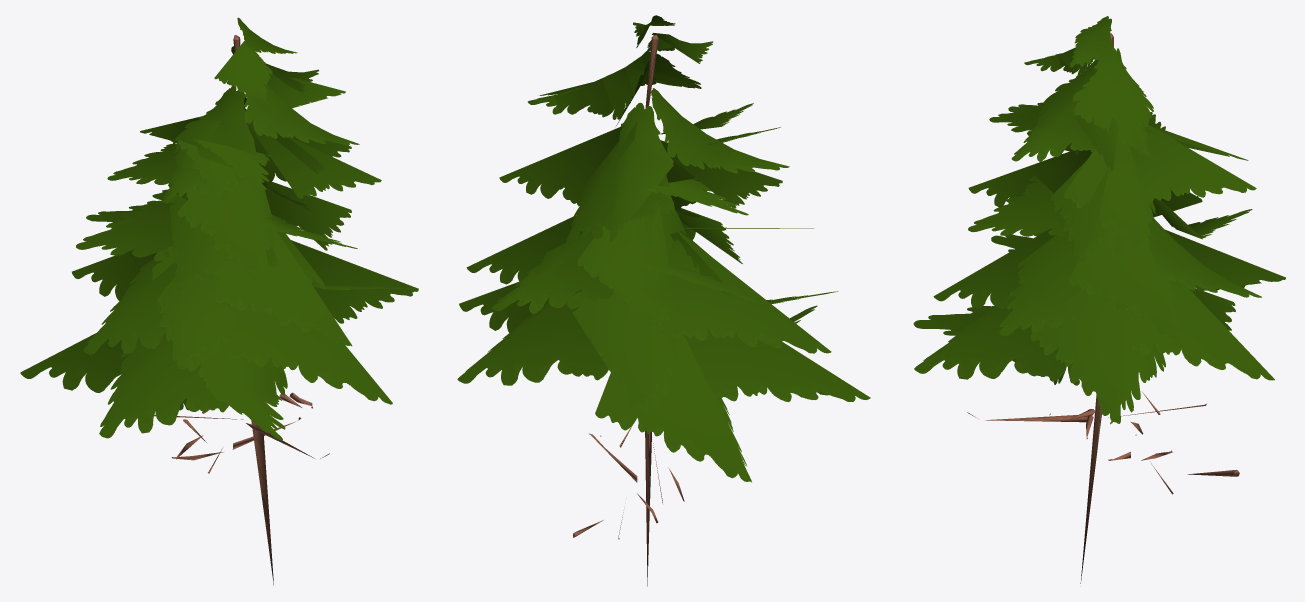
The model's file is pine_1.glb.
3 views of the same model, side by side, from view 1: azimuth 30°, elevation 25°; view 2: azimuth 150°, elevation 25°; view 3: azimuth 270°, elevation 25° (orthographic). The views are drawn at different scales.
Visible parts, largest first — view 1: Pine_1; view 2: Pine_1; view 3: Pine_1.
Part boxes in pixels (bbox=[...]): Pine_1: bbox=[20, 17, 418, 585]; Pine_1: bbox=[457, 15, 870, 586]; Pine_1: bbox=[913, 16, 1285, 583].
Bounding box in the file's own units: 4.94 × 7.32 × 4.54.
Materials: 2 (2 with a texture image).
